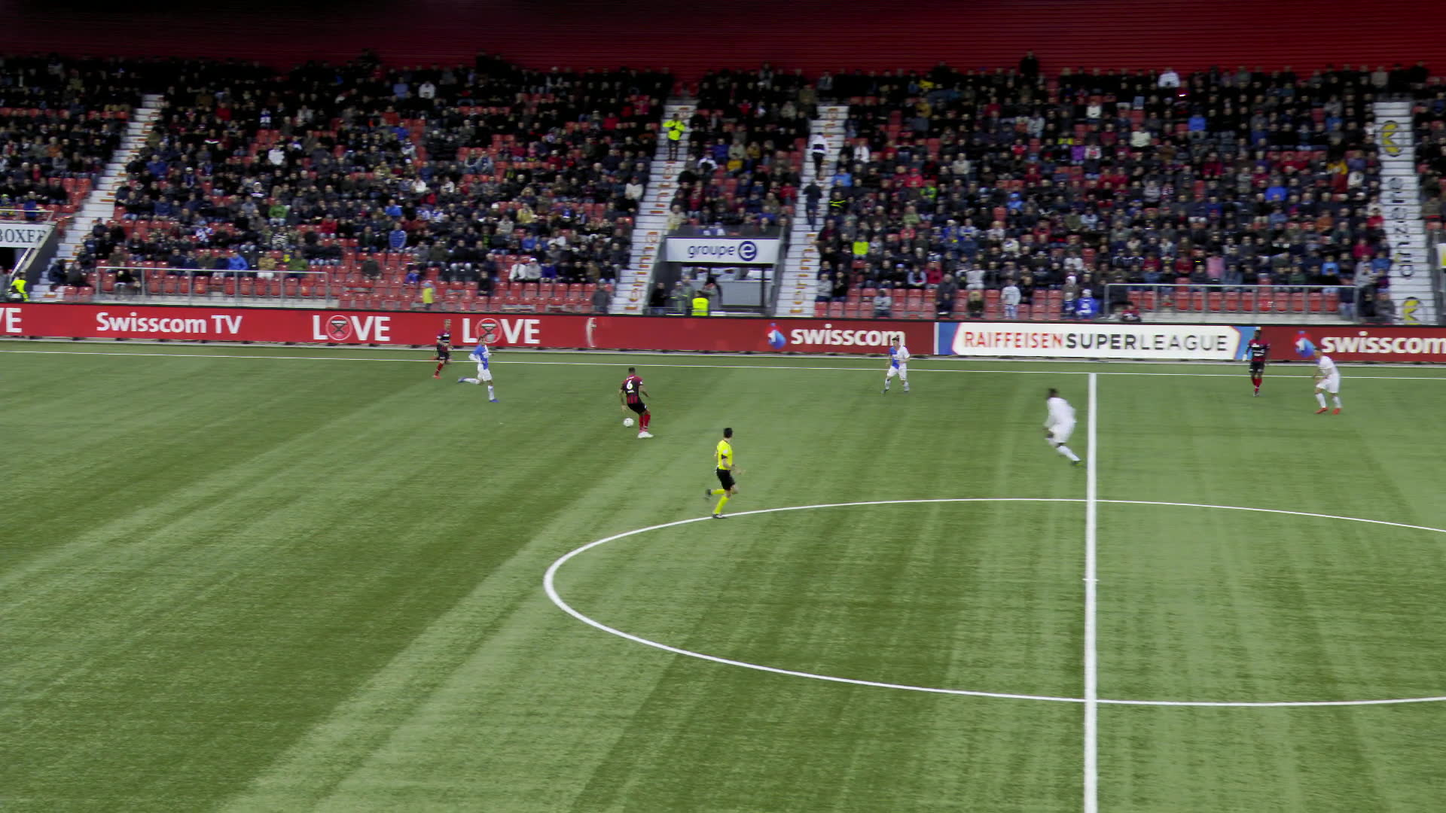ball: (616, 412, 627, 420)
player: (1052, 387, 1107, 466), (1310, 348, 1352, 416), (617, 366, 656, 439), (414, 316, 458, 376), (458, 333, 493, 402), (880, 336, 916, 394), (1246, 331, 1274, 397)
referee: (682, 425, 748, 519)
